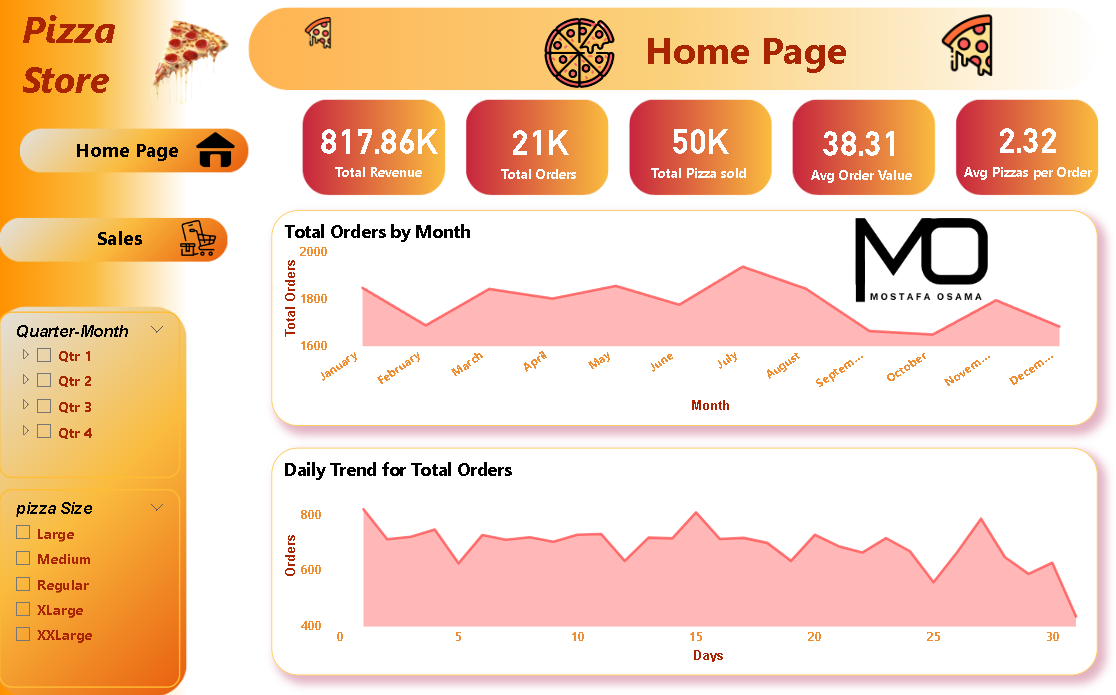

Layout of this report page (visuals, bound fields, positions):
{"tool":"powerbi","page":{"name":"Home Page","canvas":[1280,800],"ordinal":0},"visuals":[{"type":"lineChart","title":"Daily Trend for Total Orders","fields":{"Y":["Measures (2).Total Orders"],"Category":["Table1.order_date.Variation.Date Hierarchy.Day"]},"box":[311.4,512.9,944.3,260],"z":0},{"type":"lineChart","fields":{"Y":["Measures (2).Total Orders"],"Category":["Table1.order_date.Variation.Date Hierarchy.Month"]},"box":[310.7,241.1,944.3,246],"z":1000},{"type":"textbox","box":[732.9,24.3,252.9,72.9],"z":2000},{"type":"image","box":[1035.7,12.9,140,80],"z":3000},{"type":"card","fields":{"Values":["Measures (2).Total Revenue"]},"box":[351.4,114,165.7,110],"z":4000},{"type":"card","fields":{"Values":["Measures (2).Total Orders"]},"box":[540,115.4,155.7,110],"z":5000},{"type":"card","fields":{"Values":["Measures (2).Avg Order Value"]},"box":[901.4,116.9,168.6,110],"z":6000},{"type":"card","fields":{"Values":["Measures (2).Avg Pizzas per Order"]},"box":[1091.4,114,168.6,108.6],"z":7000},{"type":"card","fields":{"Values":["Measures (2).Total Pizza sold"]},"box":[714.3,115.4,171.4,108.6],"z":8000},{"type":"image","box":[341.4,8.6,45.7,60],"z":9000},{"type":"image","box":[618.6,12.9,90,97.1],"z":10000},{"type":"actionButton","box":[57.3,145.5,178.2,50],"z":11000},{"type":"actionButton","box":[48.3,241.4,178.6,61.4],"z":12000,"group":"g1"},{"type":"image","box":[219.1,145.5,58.2,52.7],"z":12000},{"type":"textbox","box":[21.2,0,178.8,128.8],"z":13000},{"type":"image","box":[137.5,0,146.2,145],"z":14000},{"type":"image","box":[200.1,241.8,55.5,62.7],"z":14000,"group":"g1"},{"type":"slicer","fields":{"Values":["Table1.order_date.Variation.Date Hierarchy.Quarter","Table1.order_date.Variation.Date Hierarchy.Month","Table1.order_date.Variation.Date Hierarchy.Day"]},"box":[0,357.5,207.5,190],"z":15000},{"type":"slicer","fields":{"Values":["Table1.pizza_Size"]},"box":[0,560,207.5,227.5],"z":16000},{"type":"group","id":"g1","title":"Group 1","box":[48.3,241.4,207.3,63.1],"z":17000}]}

Visuals, with their boxes in screenshot pixels (x1, y1, x2, y2), scaled from the page's 1280x800 canvas onto the 1116x695 screenshot:
"Daily Trend for Total Orders" lineChart: (272,446,1095,671)
lineChart - Measures (2).Total Orders x Table1.order_date.Variation.Date Hierarchy.Month: (271,209,1094,423)
textbox: (639,21,859,84)
image: (903,11,1025,81)
card - Measures (2).Total Revenue: (306,99,451,195)
card - Measures (2).Total Orders: (471,100,607,196)
card - Measures (2).Avg Order Value: (786,102,933,197)
card - Measures (2).Avg Pizzas per Order: (952,99,1099,193)
card - Measures (2).Total Pizza sold: (623,100,772,195)
image: (298,7,338,60)
image: (539,11,618,96)
actionButton: (50,126,205,170)
actionButton: (42,210,198,263)
image: (191,126,242,172)
textbox: (18,0,174,112)
image: (120,0,247,126)
image: (174,210,223,265)
slicer - Table1.order_date.Variation.Date Hierarchy.Quarter x Table1.order_date.Variation.Date Hierarchy.Month: (0,311,181,476)
slicer - Table1.pizza_Size: (0,486,181,684)
"Group 1" group: (42,210,223,265)
